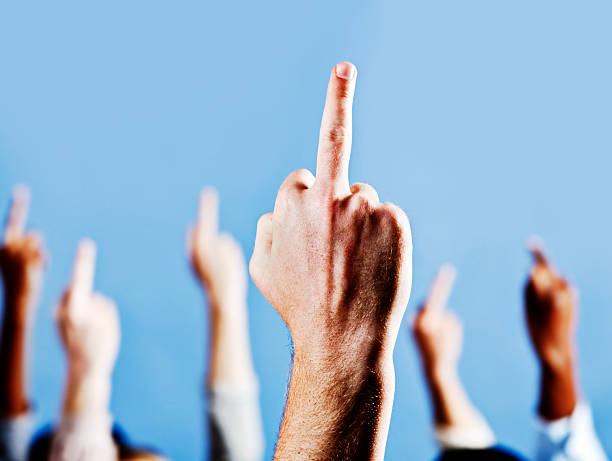insulting_gesture: (246, 59, 411, 352), (54, 233, 123, 373), (181, 185, 250, 309), (514, 238, 584, 352), (413, 264, 470, 367), (0, 185, 54, 289)
